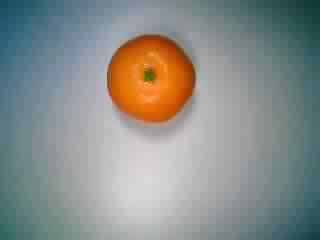orange: (103, 30, 198, 124)
